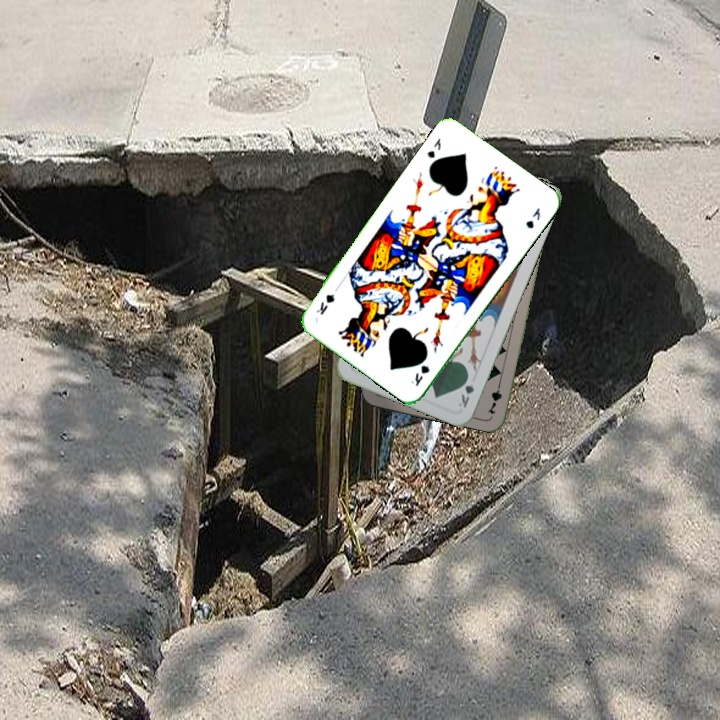G7: (484, 376, 505, 417)
GK: (454, 371, 477, 410), (407, 361, 433, 389), (423, 134, 444, 161)
